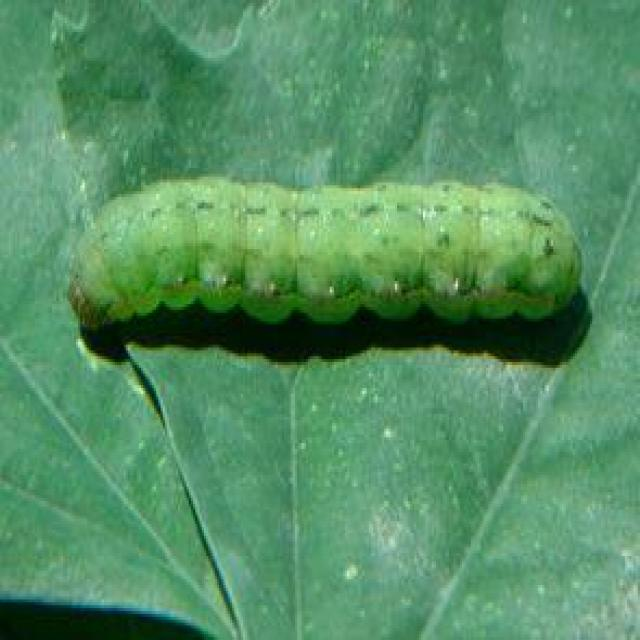BeetArmyWorm-Larva-: (49, 165, 600, 355)
